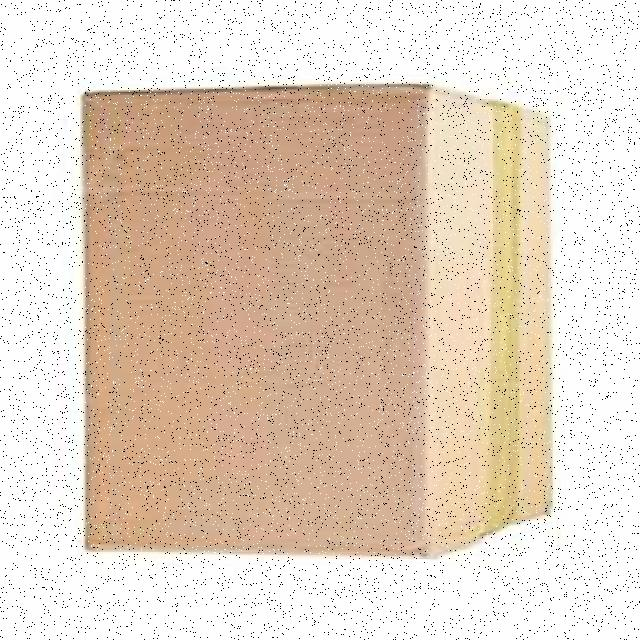normal: (77, 75, 557, 563)
